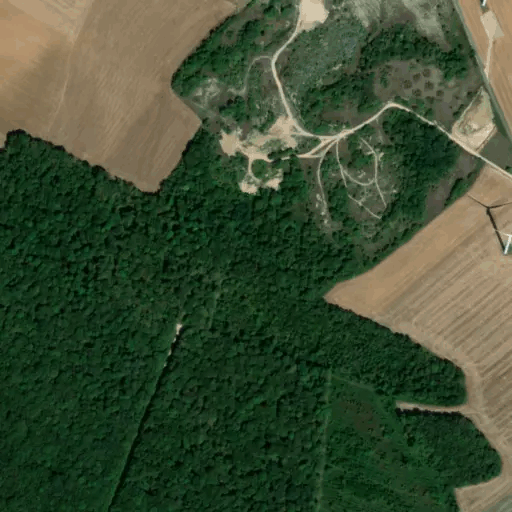wt: (467, 191, 512, 271)
